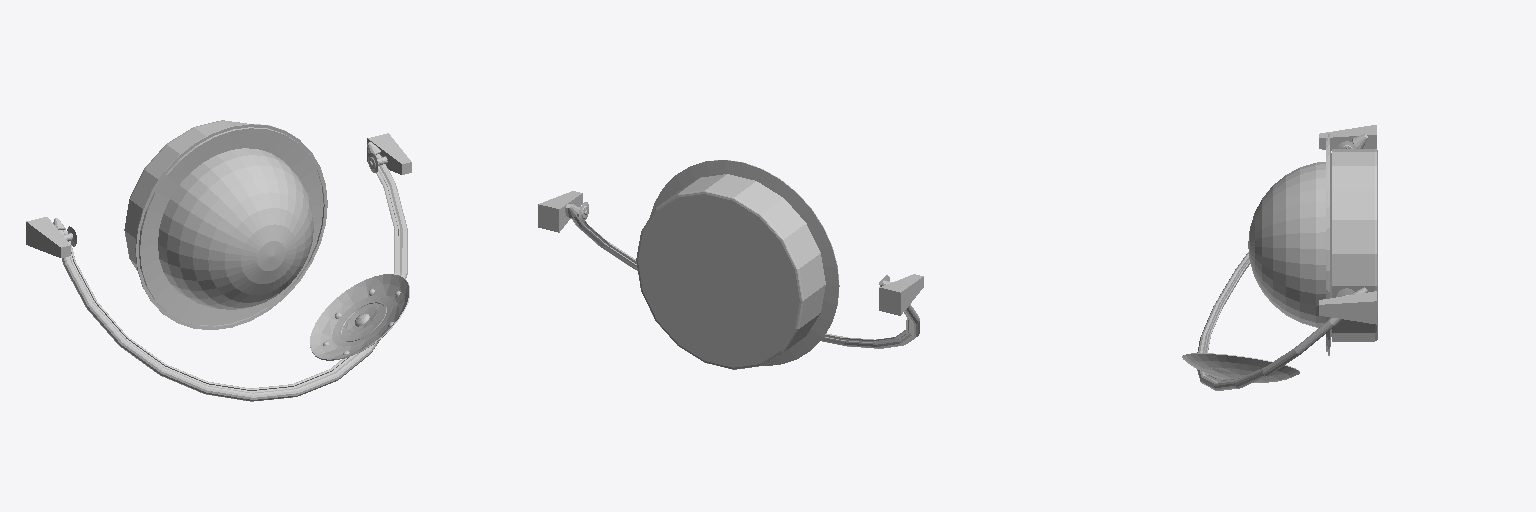
Rendered from Thermoheliodon-Watertight.obj.
3 renders of one model, left to right at view 1: azimuth 30°, elevation 25°; view 2: azimuth 150°, elevation 25°; view 3: azimuth 270°, elevation 25°, orthographic.
Visible parts, largest first — view 1: Cylinder002; view 2: Cylinder002; view 3: Cylinder002.
Boxes of the visible parts, <box> form: Cylinder002: <box>26,120,411,401</box>; Cylinder002: <box>538,160,923,369</box>; Cylinder002: <box>1182,125,1377,390</box>.
Size of the model in its own units: 267 by 157 by 125.